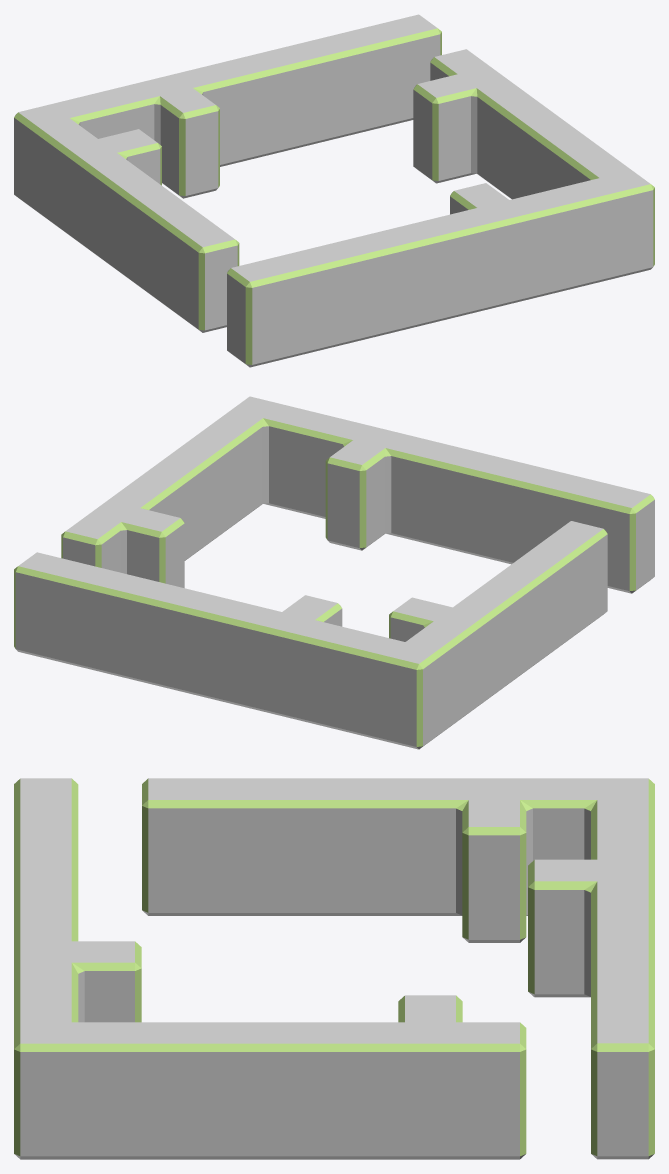
File: Lvl5.fbx
3 renders of one model, top to bottom at view 1: azimuth 30°, elevation 25°; view 2: azimuth 150°, elevation 25°; view 3: azimuth 270°, elevation 25°, orthographic. The views are drawn at different scales.
Visible parts, largest first — view 1: Cube.087; view 2: Cube.087; view 3: Cube.087.
Part boxes in pixels (left/top/right/bottom): Cube.087: left=14, top=14, right=654, bottom=367; Cube.087: left=14, top=396, right=654, bottom=749; Cube.087: left=14, top=778, right=654, bottom=1159.
Bounding box in the file's own units: 9.97 × 1.99 × 9.98.
